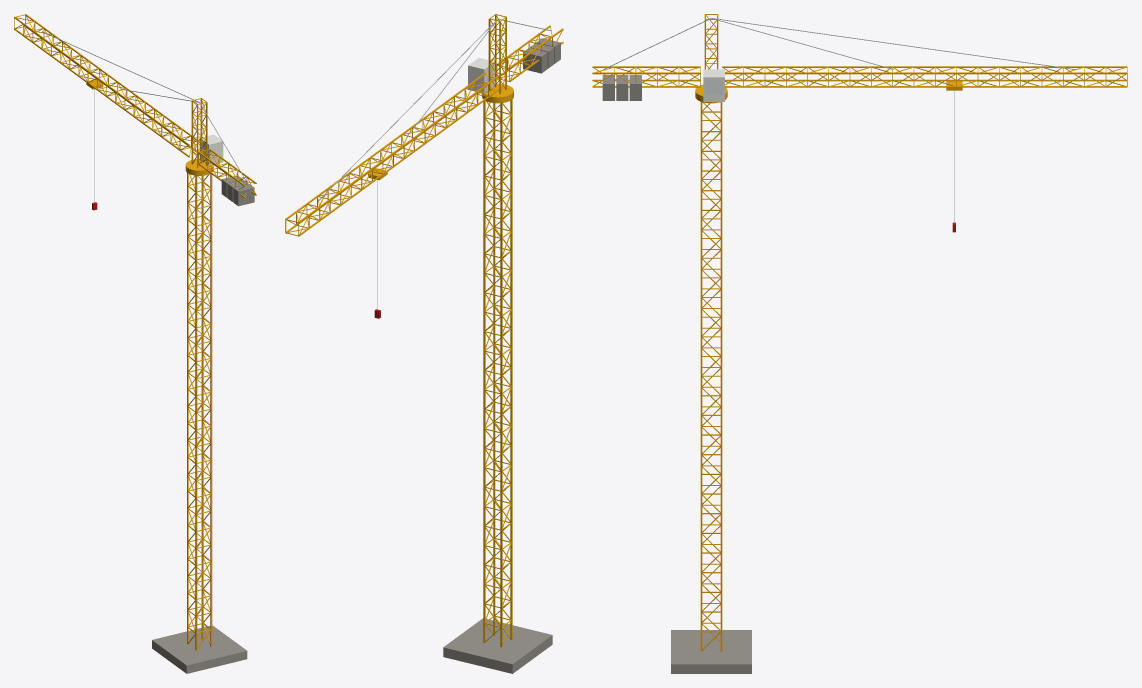
Rendered from plant.crane.tower_city.glb.
The picture shows the model from 3 angles, left to right: view 1: azimuth 30°, elevation 25°; view 2: azimuth 150°, elevation 25°; view 3: azimuth 270°, elevation 25°; orthographic projection. The views are drawn at different scales.
Parts seen in each view (by area): view 1: mast__plant_yellow, jib__plant_yellow, base__concrete, slew__plant_yellow, jib__concrete, slew__paint_white, jib__steel_galvanised; view 2: mast__plant_yellow, jib__plant_yellow, base__concrete, slew__plant_yellow, jib__concrete, slew__paint_white, jib__steel_galvanised; view 3: jib__plant_yellow, mast__plant_yellow, base__concrete, jib__concrete, jib__steel_galvanised.
Part boxes in pixels (x1=…): mast__plant_yellow: x1=187, y1=173, x2=212, y2=650; jib__plant_yellow: x1=14, y1=14, x2=256, y2=198; base__concrete: x1=152, y1=625, x2=247, y2=673; slew__plant_yellow: x1=185, y1=98, x2=213, y2=175; jib__concrete: x1=221, y1=175, x2=254, y2=206; slew__paint_white: x1=199, y1=134, x2=223, y2=165; jib__steel_galvanised: x1=42, y1=31, x2=246, y2=180; mast__plant_yellow: x1=483, y1=99, x2=512, y2=647; jib__plant_yellow: x1=285, y1=25, x2=563, y2=236; base__concrete: x1=443, y1=618, x2=552, y2=673; slew__plant_yellow: x1=482, y1=14, x2=513, y2=103; jib__concrete: x1=523, y1=38, x2=560, y2=73; slew__paint_white: x1=468, y1=58, x2=494, y2=93; jib__steel_galvanised: x1=317, y1=18, x2=551, y2=201; jib__plant_yellow: x1=592, y1=66, x2=1127, y2=87; mast__plant_yellow: x1=700, y1=102, x2=722, y2=651; base__concrete: x1=671, y1=630, x2=751, y2=673; jib__concrete: x1=602, y1=75, x2=641, y2=100; jib__steel_galvanised: x1=603, y1=18, x2=1075, y2=69.
Size of the model in its own units: 6 by 52.33 by 39.64.
